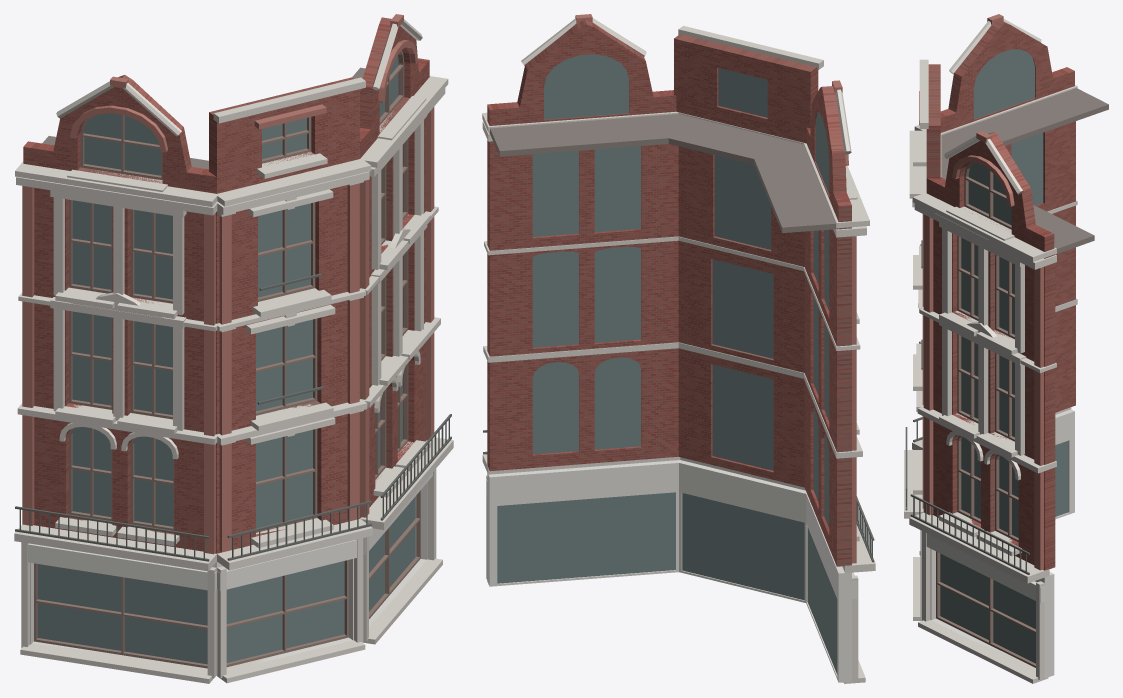
The model's file is huangpu-dianchi-land-investment-corner-lod.glb.
3 views of the same model, side by side, from view 1: azimuth 30°, elevation 25°; view 2: azimuth 150°, elevation 25°; view 3: azimuth 270°, elevation 25° (orthographic). The views are drawn at different scales.
Parts seen in each view (by area): view 1: 业广地产公司大楼滇池路与四川中路转角; view 2: 业广地产公司大楼滇池路与四川中路转角; view 3: 业广地产公司大楼滇池路与四川中路转角.
Part boxes in pixels (x1,y1,x2,y2): 业广地产公司大楼滇池路与四川中路转角: (14,14,453,683); 业广地产公司大楼滇池路与四川中路转角: (482,14,875,683); 业广地产公司大楼滇池路与四川中路转角: (904,14,1108,683).
Size of the model in its own units: 12.96 by 17.03 by 6.11.
8 materials, 1 textured.
